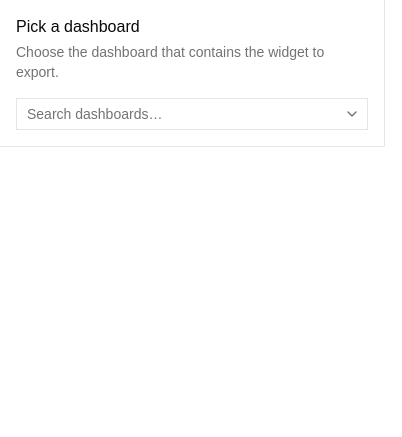
Test: DashboardPicker › paginates long lists with a "Show more" control
The width and height of the screenshot is (402, 437).
Step 1. Click the dropdown labelled "Search dashboards" → (178, 114), box left=17, top=98, right=340, bottom=130
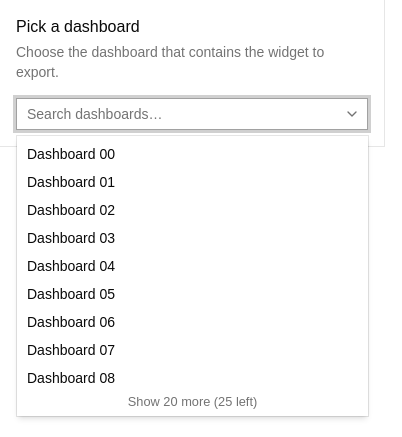
Now the button "Show 20 more (25 left)" is shown
Step 2. Click the button "Show 20 more (25 left)" → (192, 402), box left=17, top=388, right=368, bottom=416
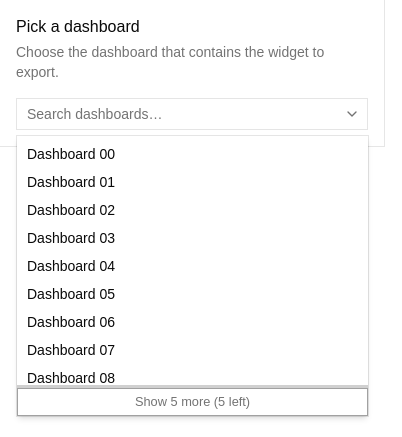
Now the button "Show 5 more (5 left)" is shown
Step 3. Click the button "Show 5 more (5 left)" → (192, 402), box left=17, top=388, right=368, bottom=416
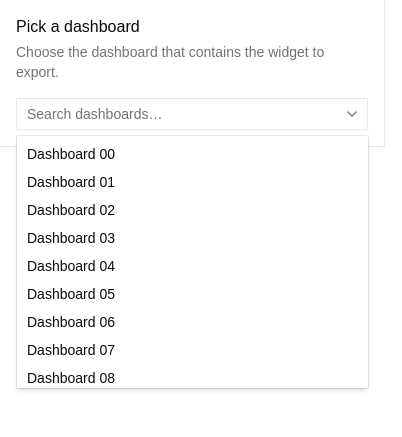
Now the button "Show 5 more (5 left)" is gone
